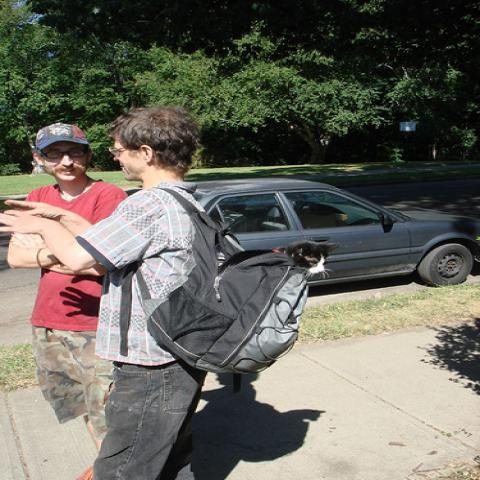car: (191, 175, 478, 287)
